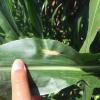Corn leaf blight: (28, 37, 99, 87)
